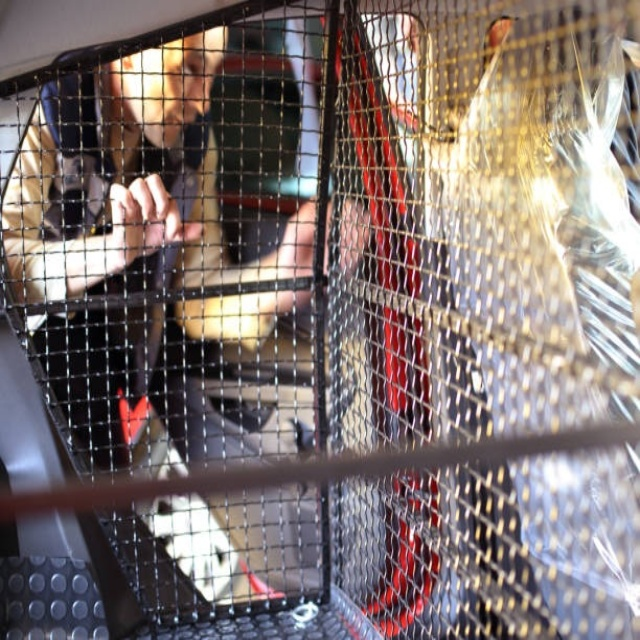Sin_guantes: (98, 171, 201, 277)
